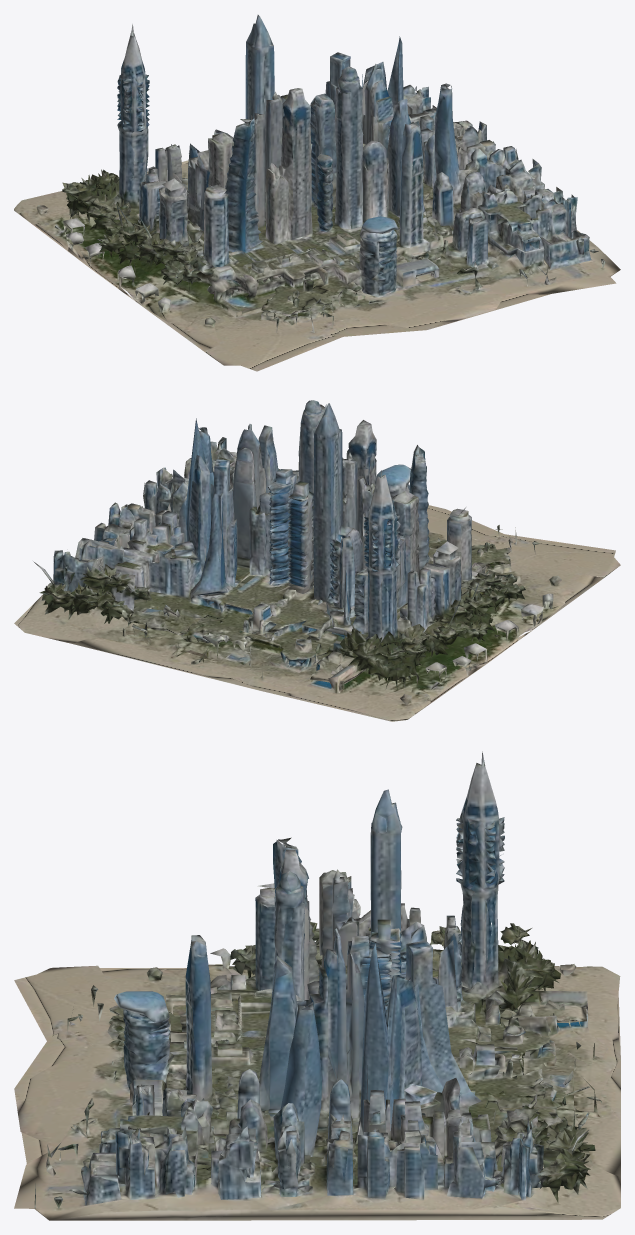
Rendered from dubai_marina_far.glb.
3 renders of one model, top to bottom at view 1: azimuth 30°, elevation 25°; view 2: azimuth 150°, elevation 25°; view 3: azimuth 270°, elevation 25°, orthographic. The views are drawn at different scales.
Visible parts, largest first — view 1: dubai_marina; view 2: dubai_marina; view 3: dubai_marina.
Boxes of the visible parts, left/top/right/bottom form: dubai_marina: left=14, top=15, right=620, bottom=371; dubai_marina: left=14, top=400, right=620, bottom=721; dubai_marina: left=14, top=751, right=620, bottom=1220.
Size of the model in its own units: 1.9 by 0.9867 by 1.92.
1 material, 1 textured.
